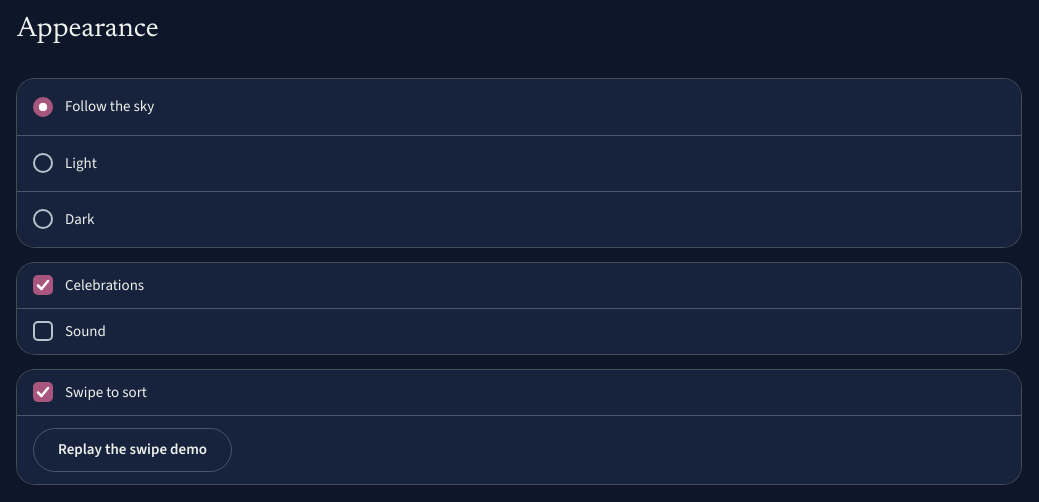
Test: Appearance: Swipe to sort (review focus P2) › is on by default and kept for this device; Replay is disabled while it is off
Click the switch labelled "Swipe to sort" at {"x": 43, "y": 392}, box [33,382,53,402]
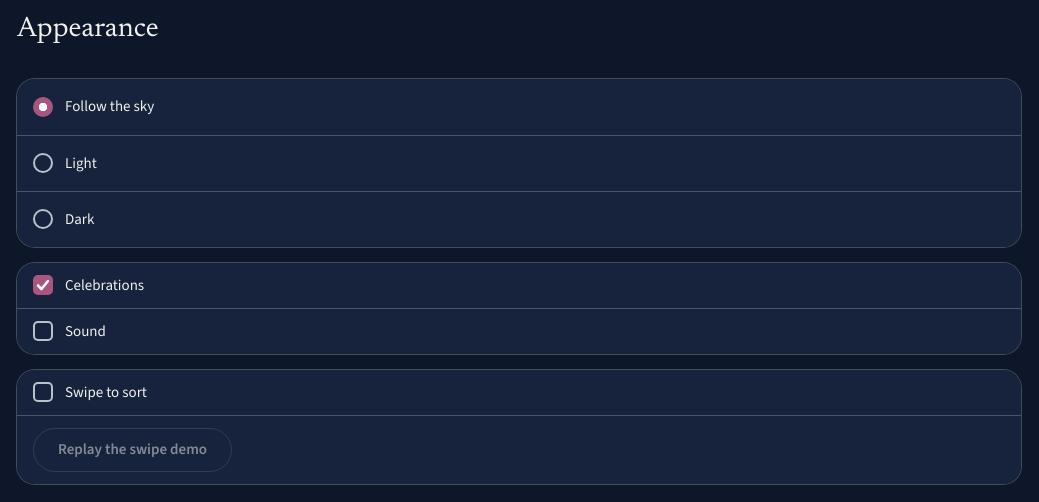
Expected: the button "Replay the swipe demo" is disabled, [33,428,232,472]
